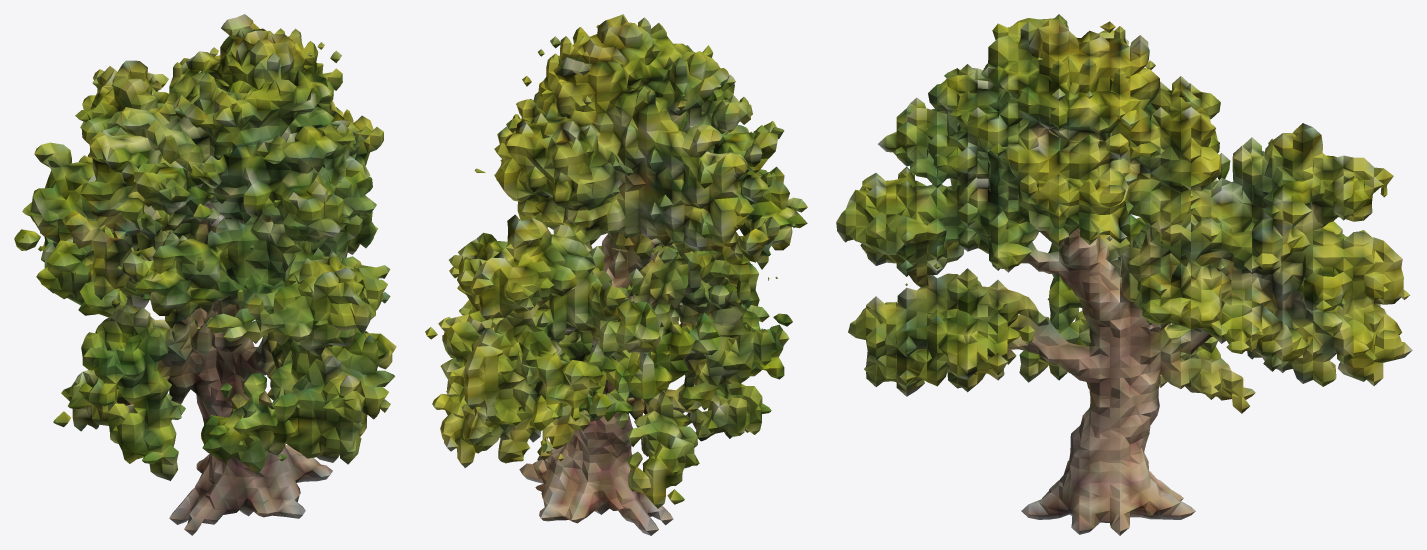
Rendered from oak-triposr-rejected.glb.
The picture shows the model from 3 angles, left to right: view 1: azimuth 30°, elevation 25°; view 2: azimuth 150°, elevation 25°; view 3: azimuth 270°, elevation 25°; orthographic projection. The views are drawn at different scales.
Visible parts, largest first — view 1: geometry_0; view 2: geometry_0; view 3: geometry_0.
Boxes of the visible parts, x1,y1,x2,y2 form: geometry_0: [14, 14, 396, 535]; geometry_0: [425, 14, 807, 535]; geometry_0: [836, 14, 1412, 535].
Bounding box in the file's own units: 0.6167 × 1.01 × 1.04.
